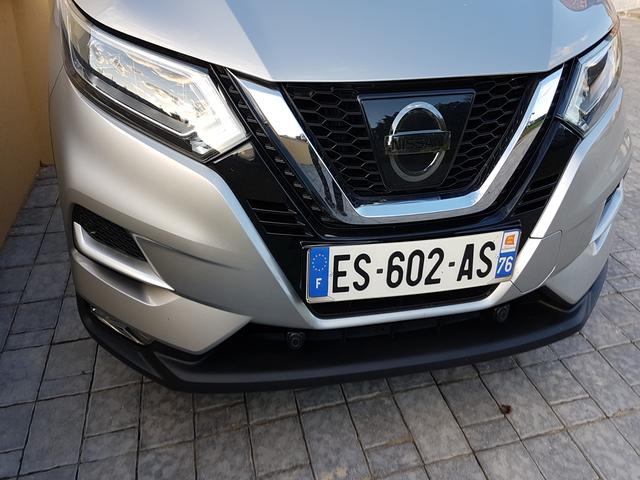Quashqai: (272, 204, 544, 315)
